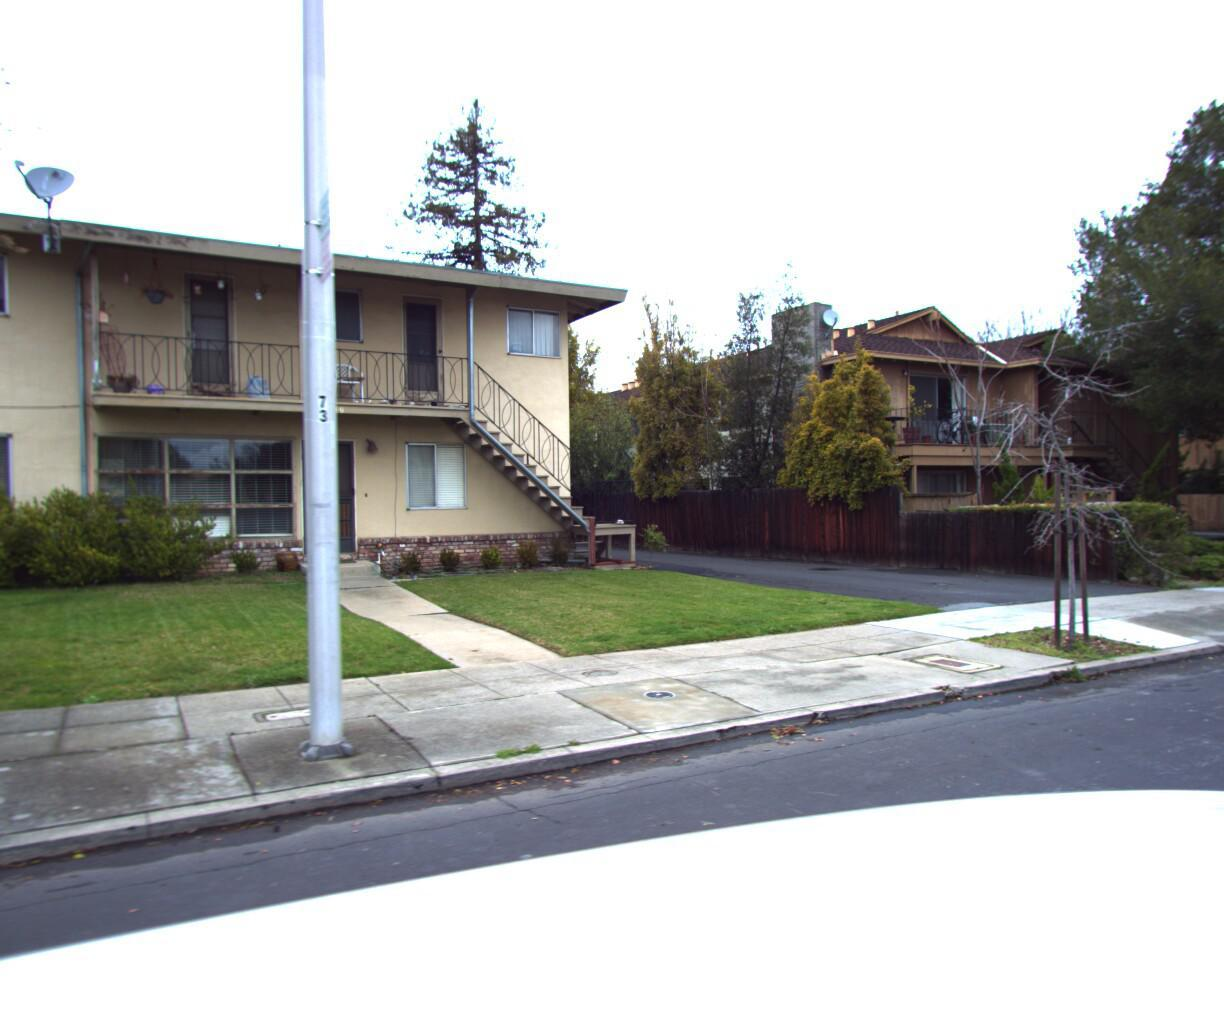bicycle: (1154, 501, 1199, 546)
